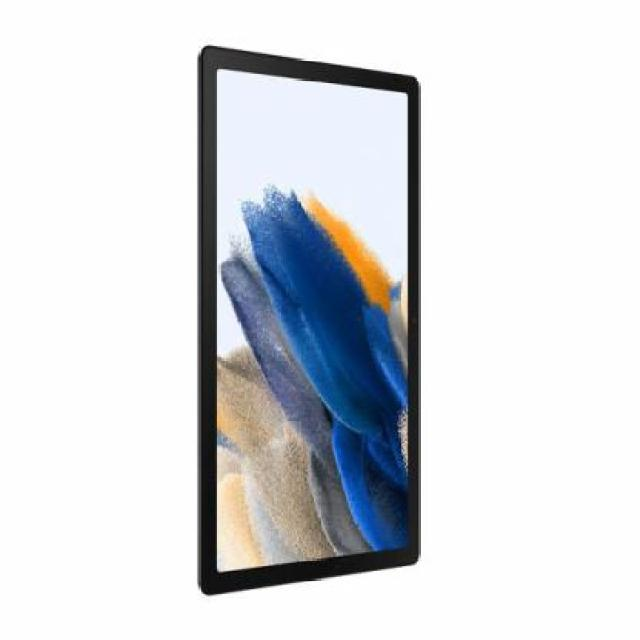tablet: (165, 32, 442, 611)
